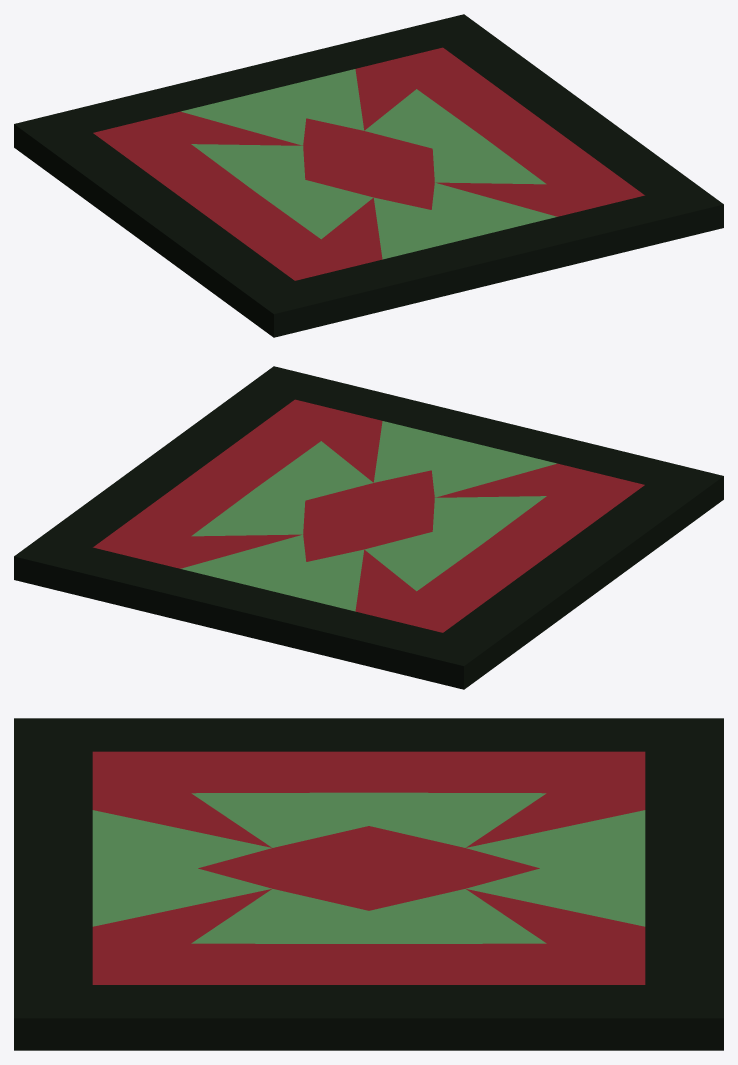
File: tapete.fbx
The picture shows the model from 3 angles, top to bottom: view 1: azimuth 30°, elevation 25°; view 2: azimuth 150°, elevation 25°; view 3: azimuth 270°, elevation 25°; orthographic projection. The views are drawn at different scales.
Visible parts, largest first — view 1: Tapete_LoPo; view 2: Tapete_LoPo; view 3: Tapete_LoPo.
Part boxes in pixels (left/top/right/bottom): Tapete_LoPo: left=14, top=14, right=723, bottom=337; Tapete_LoPo: left=14, top=366, right=723, bottom=689; Tapete_LoPo: left=14, top=718, right=723, bottom=1050.
Size of the model in its own units: 200 by 10 by 200.
